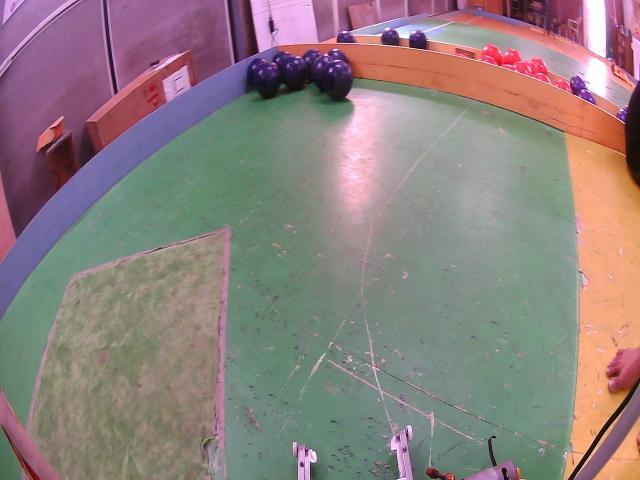jambhalya: (571, 75, 587, 95), (579, 88, 596, 105), (616, 108, 626, 122)
kaalyya: (323, 60, 352, 100), (254, 62, 281, 98), (282, 55, 308, 90), (311, 55, 334, 91), (303, 49, 322, 79), (247, 58, 267, 86), (273, 51, 291, 71), (381, 28, 400, 46), (410, 30, 428, 49), (328, 49, 348, 63), (337, 30, 355, 43)
